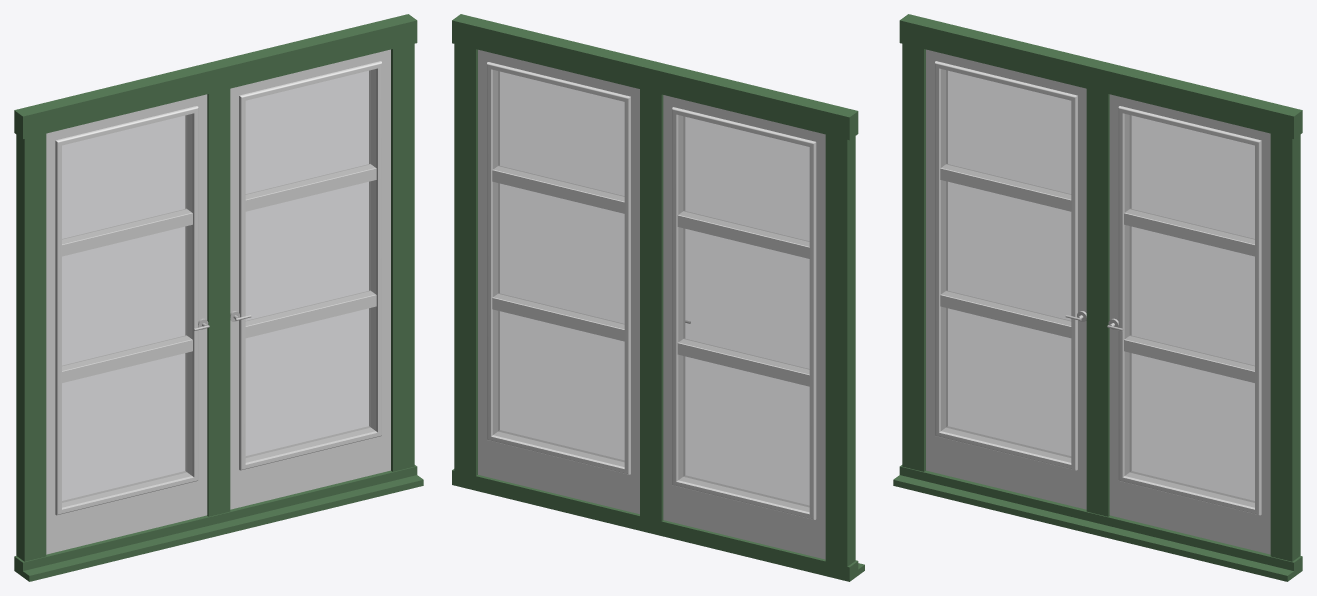
File: prom_windowedDoor.fbx
3 renders of one model, left to right at view 1: azimuth 30°, elevation 25°; view 2: azimuth 150°, elevation 25°; view 3: azimuth 330°, elevation 25°, orthographic.
Visible parts, largest first — view 1: polySurface11; view 2: polySurface11; view 3: polySurface11.
Part boxes in pixels (bbox=[...]): polySurface11: bbox=[14, 14, 423, 581]; polySurface11: bbox=[452, 14, 864, 581]; polySurface11: bbox=[893, 14, 1302, 581].
Size of the model in its own units: 72.8 by 81.27 by 4.99.
